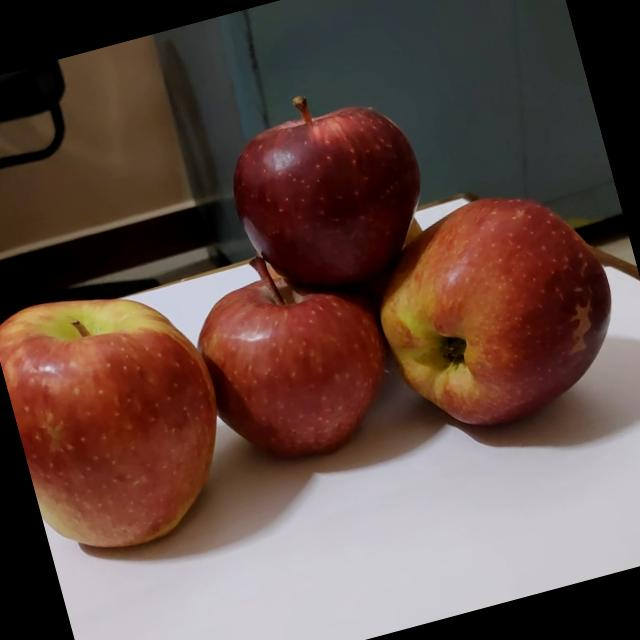apple: (0, 254, 264, 576), (354, 165, 640, 457), (206, 63, 455, 317), (182, 233, 416, 492), (382, 201, 442, 268)
